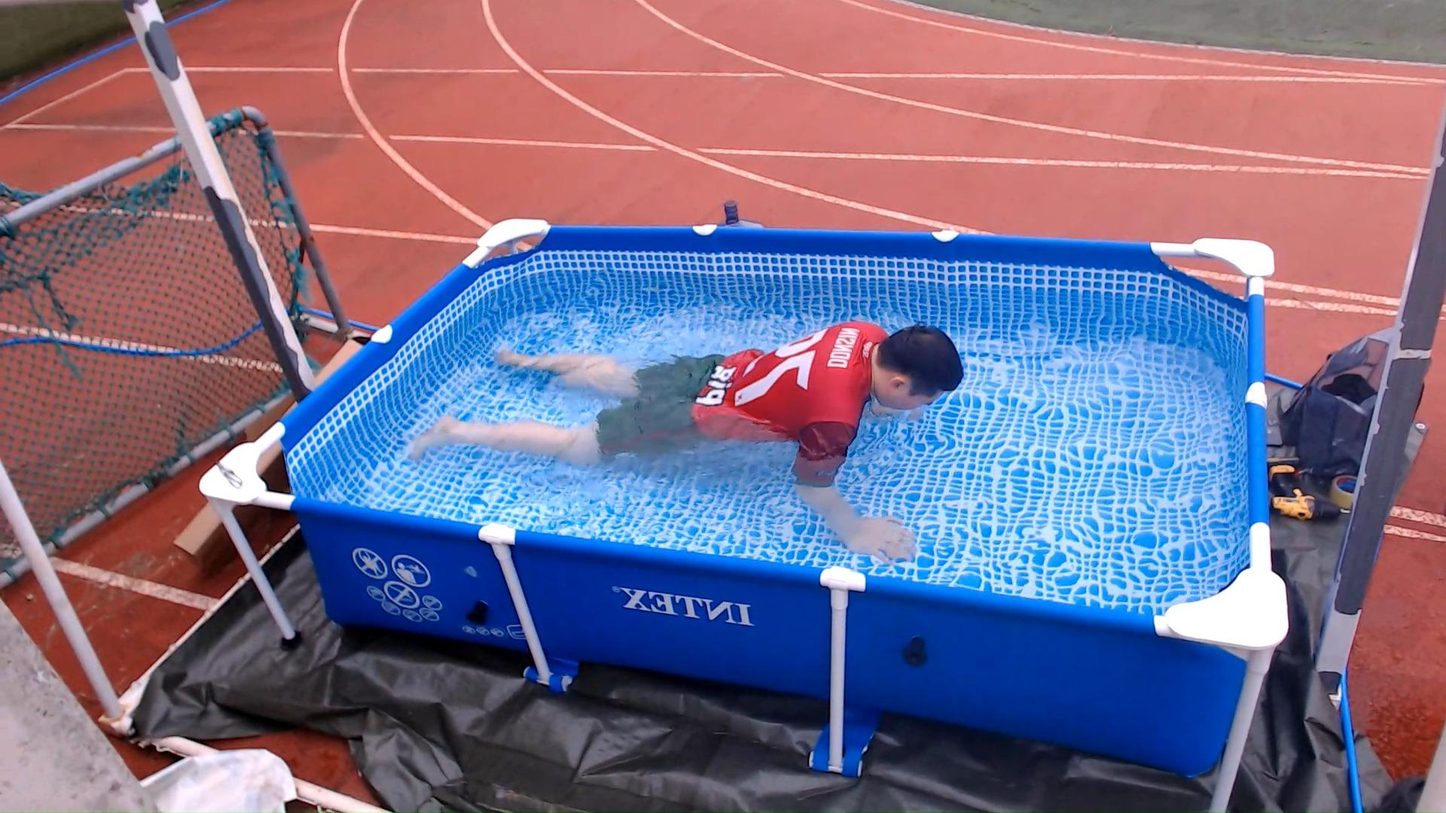Drowning: (367, 286, 1030, 541)
